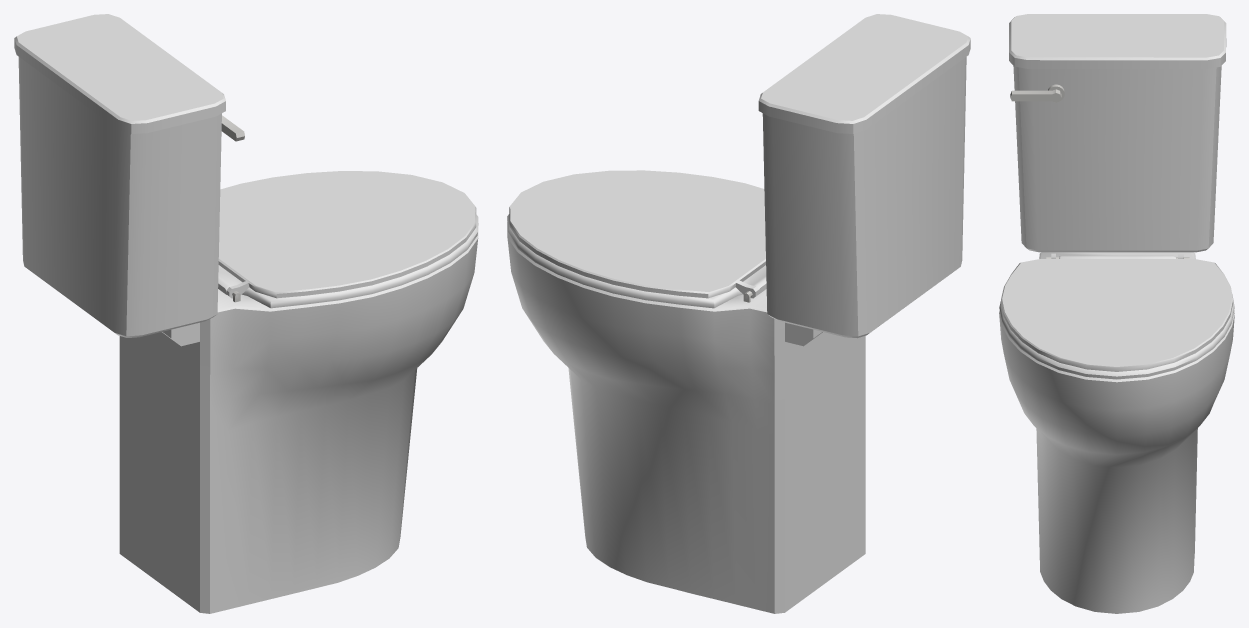
The model's file is toilet.obj.
3 renders of one model, left to right at view 1: azimuth 30°, elevation 25°; view 2: azimuth 150°, elevation 25°; view 3: azimuth 270°, elevation 25°, orthographic. The views are drawn at different scales.
Parts seen in each view (by area): view 1: Cylinder.001; view 2: Cylinder.001; view 3: Cylinder.001.
Boxes of the visible parts, left/top/right/bottom form: Cylinder.001: left=14, top=14, right=478, bottom=613; Cylinder.001: left=507, top=14, right=970, bottom=613; Cylinder.001: left=999, top=14, right=1234, bottom=613.
Size of the model in its own units: 0.5876 by 0.7392 by 0.3422.
